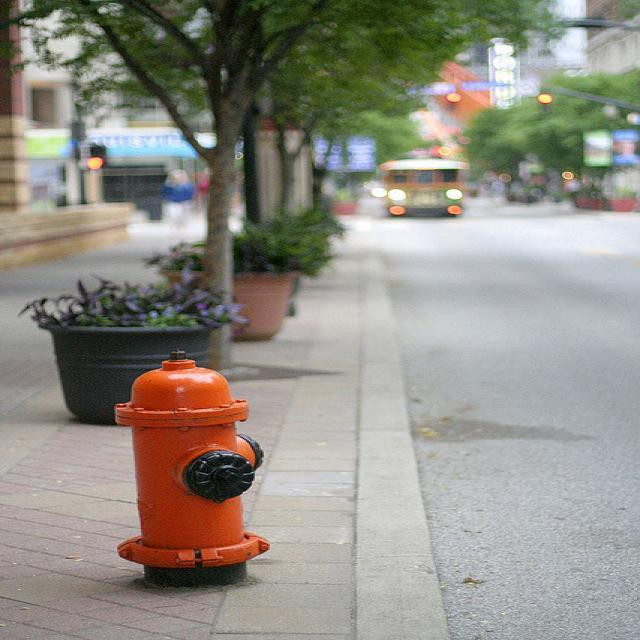fire_hydrant: (112, 346, 272, 586)
